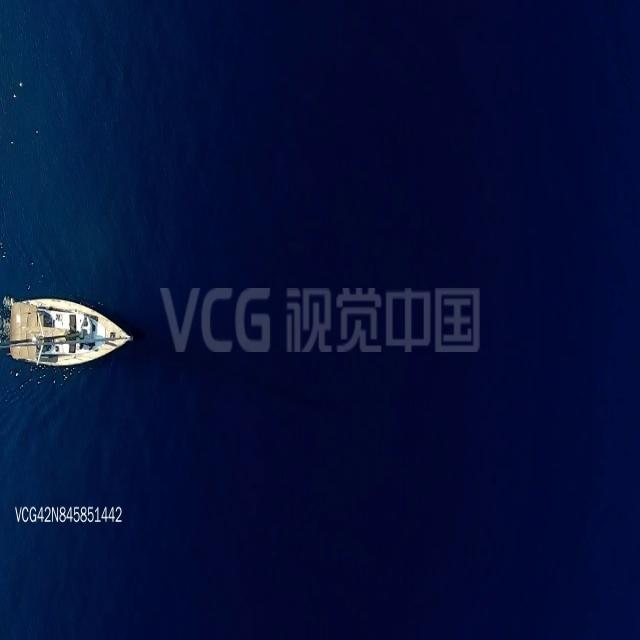sailboat: (6, 294, 138, 374)
